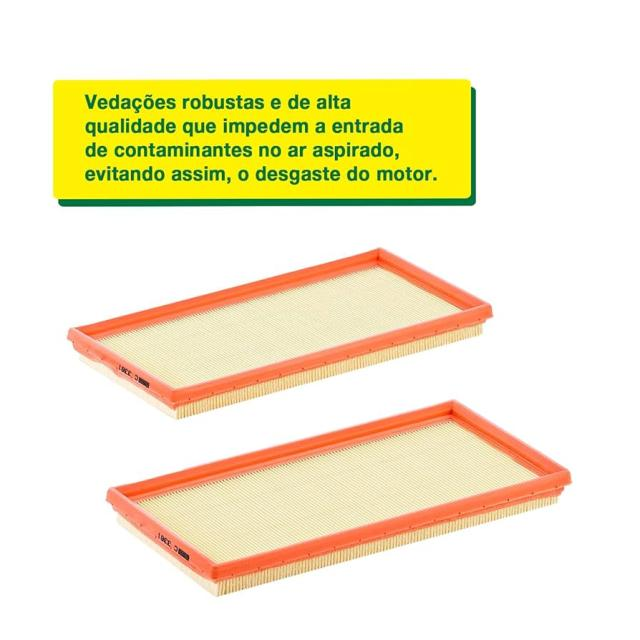air_filter: (59, 235, 516, 430)
